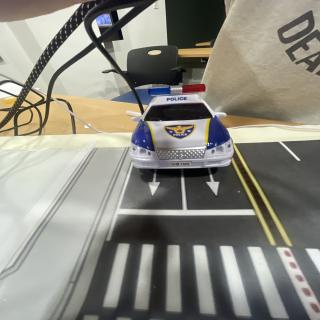Police_car: (130, 84, 234, 169)
